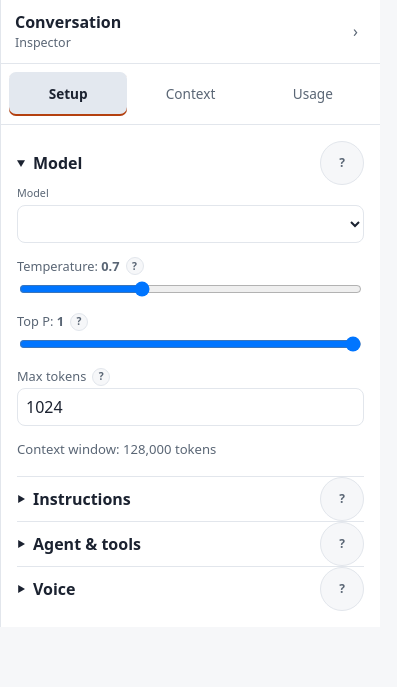
ConversationInspector › explains a required-source conflict and locks mutations while a chat is active
Click the button "Agent & tools".
click(87, 544)  # box [17,522,313,566]
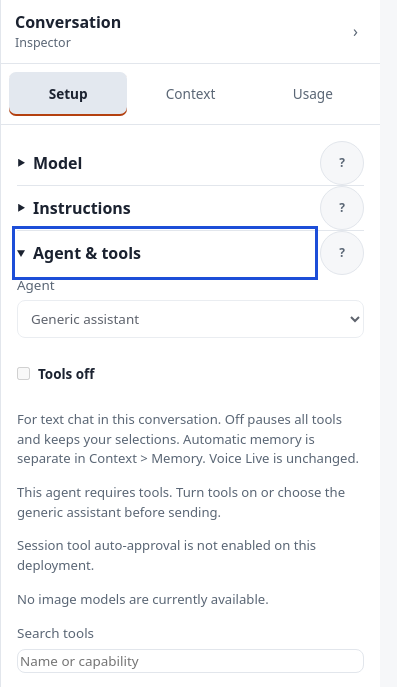
Result: the text "This agent requires tools" is shown at [17,483,345,521]
Result: the switch named "Conversation tools" is disabled at [17,367,30,380]
